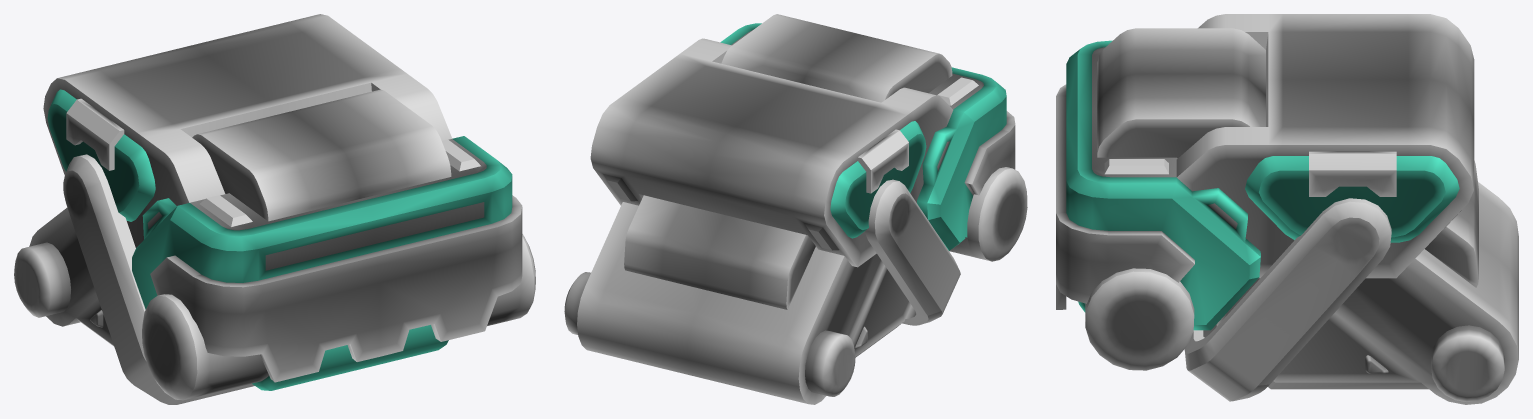
File: env_minehub_largeshape.fbx
3 views of the same model, side by side, from view 1: azimuth 30°, elevation 25°; view 2: azimuth 150°, elevation 25°; view 3: azimuth 270°, elevation 25° (orthographic). The views are drawn at different scales.
Visible parts, largest first — view 1: env_minehub_largeshape_lod0; view 2: env_minehub_largeshape_lod0; view 3: env_minehub_largeshape_lod0.
Part boxes in pixels (box(x1,y1,x2,y2)): env_minehub_largeshape_lod0: box(14, 14, 535, 404); env_minehub_largeshape_lod0: box(564, 14, 1027, 404); env_minehub_largeshape_lod0: box(1056, 14, 1518, 404).
Size of the model in its own units: 113 by 80.75 by 126.
